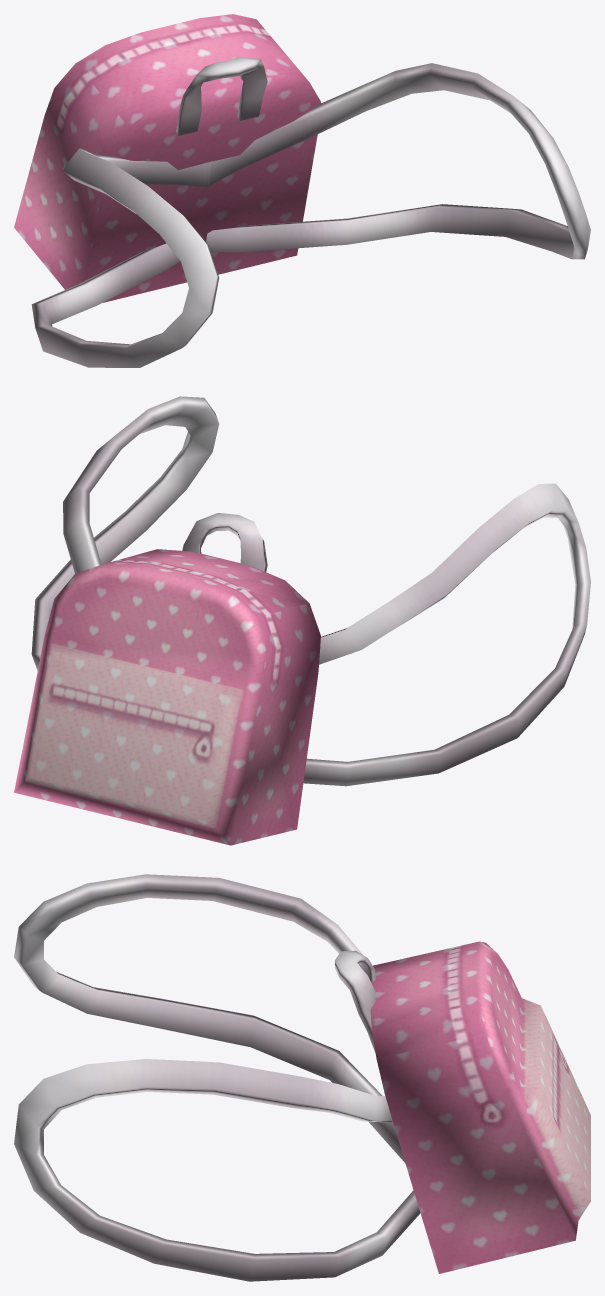
Rendered from M_backpackA_4.glb.
3 renders of one model, top to bottom at view 1: azimuth 30°, elevation 25°; view 2: azimuth 150°, elevation 25°; view 3: azimuth 270°, elevation 25°, orthographic. The views are drawn at different scales.
Parts seen in each view (by area): view 1: SM_BackpackA; view 2: SM_BackpackA; view 3: SM_BackpackA.
Boxes of the visible parts, left/top/right/bottom form: SM_BackpackA: left=14, top=14, right=590, bottom=367; SM_BackpackA: left=14, top=396, right=590, bottom=845; SM_BackpackA: left=14, top=874, right=590, bottom=1281.
Size of the model in its own units: 0.4544 by 0.2231 by 0.4499.
Materials: 1 (1 with a texture image).
